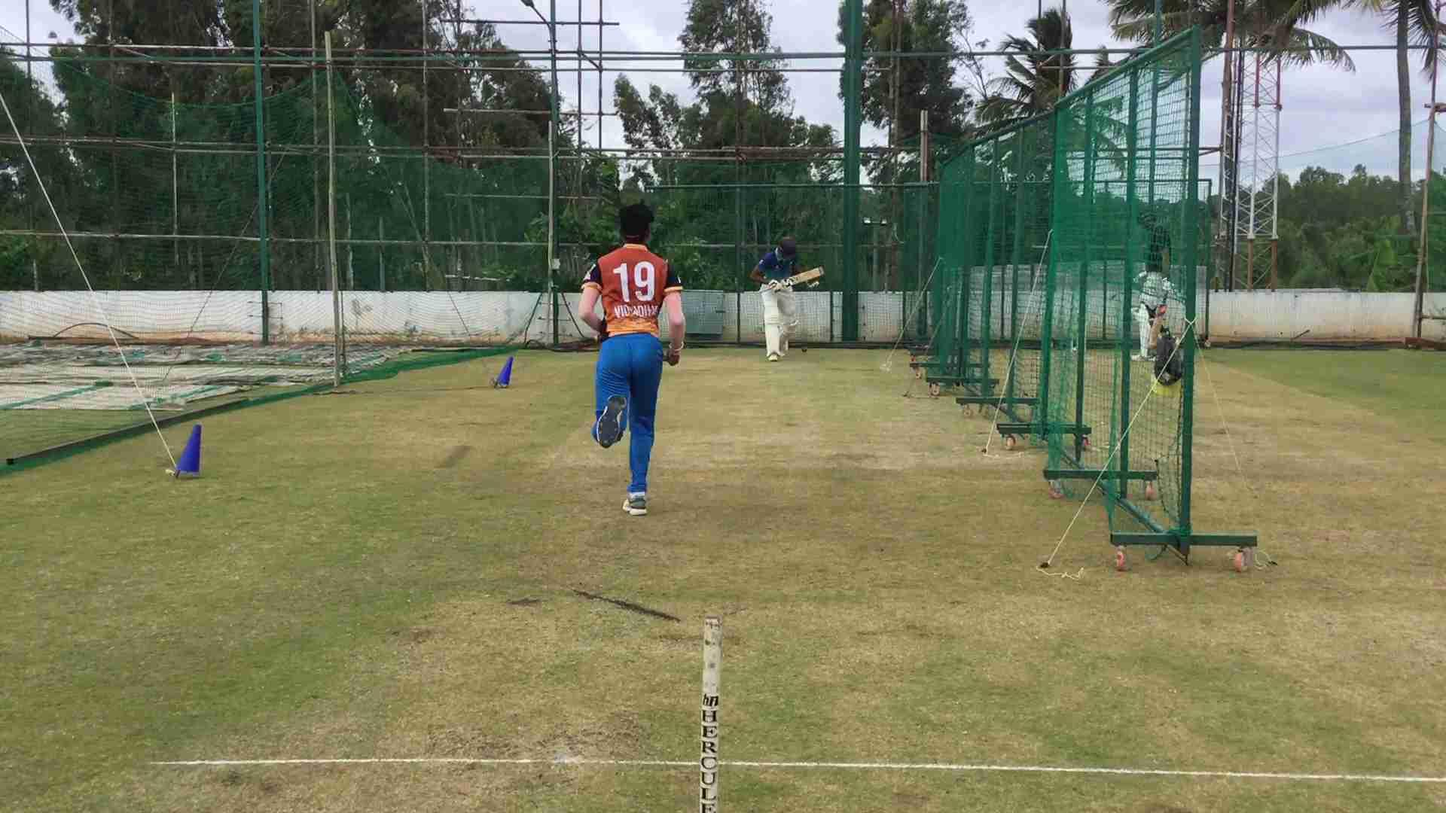batsman: (743, 228, 807, 366)
